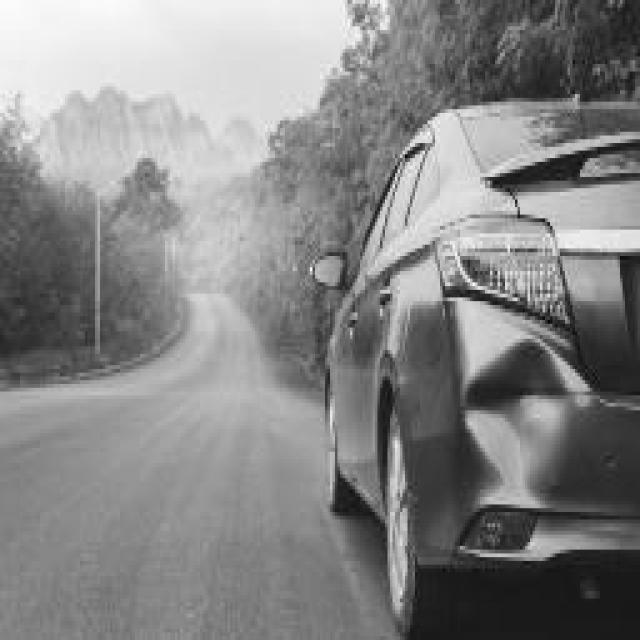Bumper: (458, 335, 600, 527)
